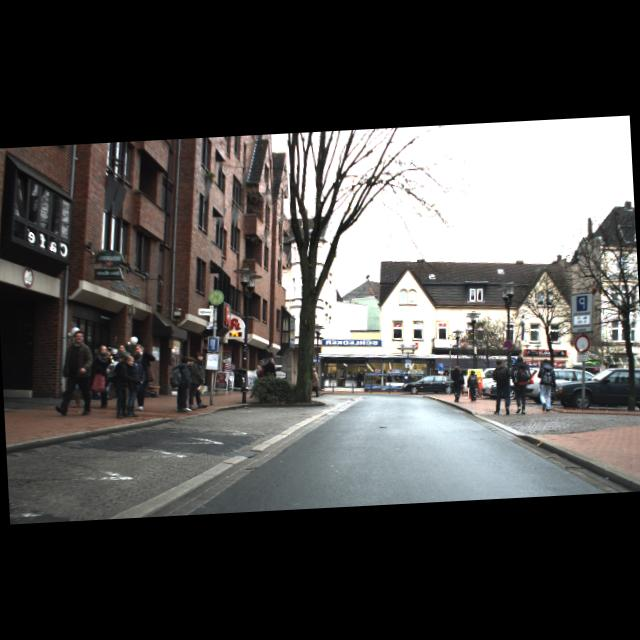prohibitory: (574, 333, 592, 354)
